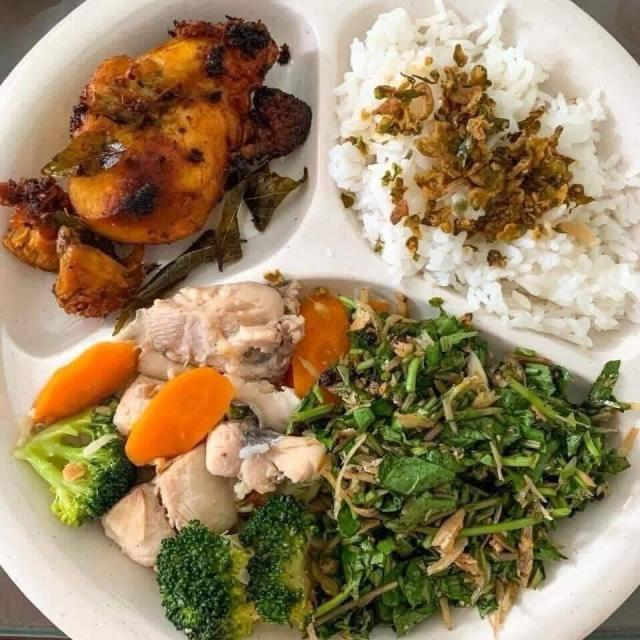Chicken: (0, 17, 315, 318), (99, 279, 327, 570)
Plate: (0, 445, 183, 639)
Rice: (328, 0, 639, 353)
Vegetables: (7, 284, 634, 639)
